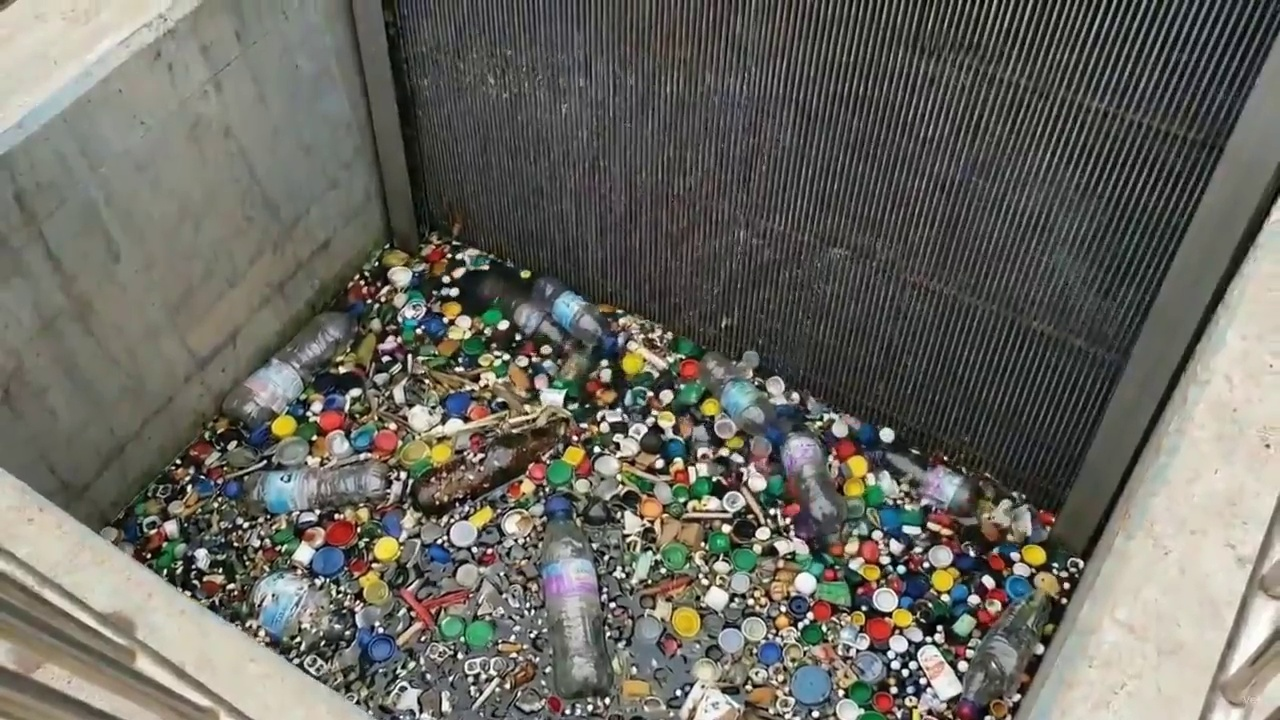debris: (111, 225, 1096, 719)
